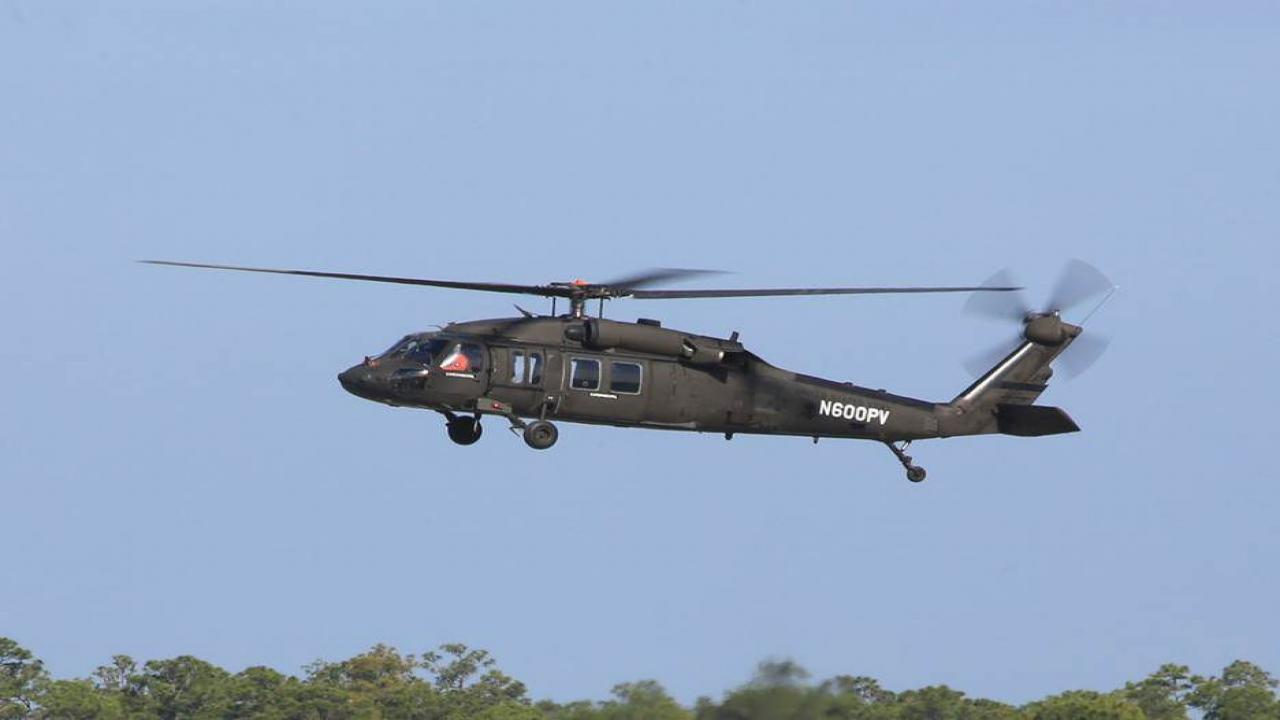Helicopter: (121, 241, 1134, 490)
